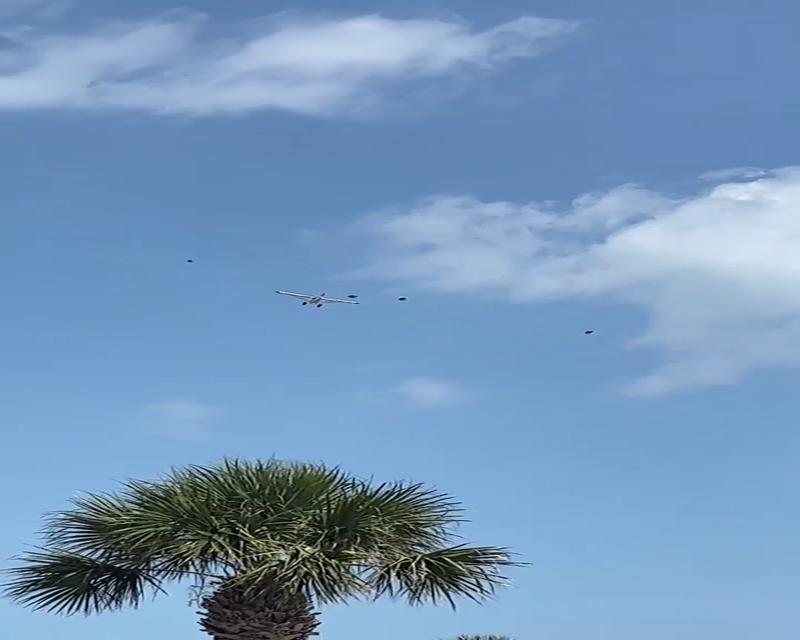UAV: (274, 290, 360, 308)
